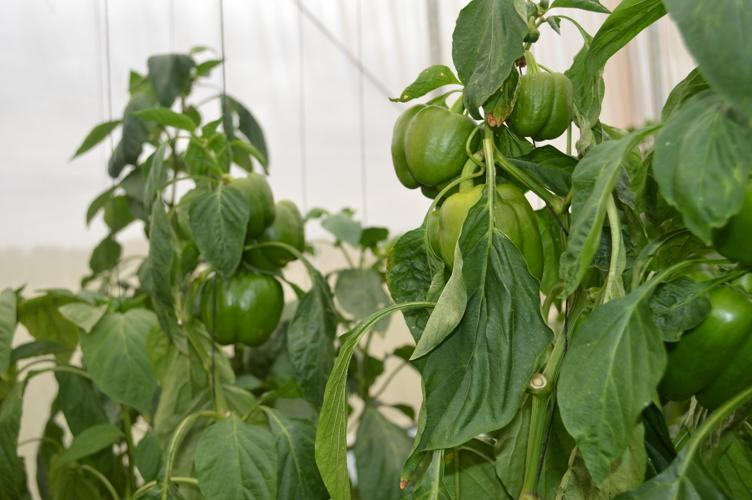BellPepper: (657, 271, 748, 412), (440, 184, 545, 285), (390, 107, 473, 198), (195, 270, 283, 346), (507, 70, 575, 147), (231, 201, 304, 267), (222, 172, 275, 232)
